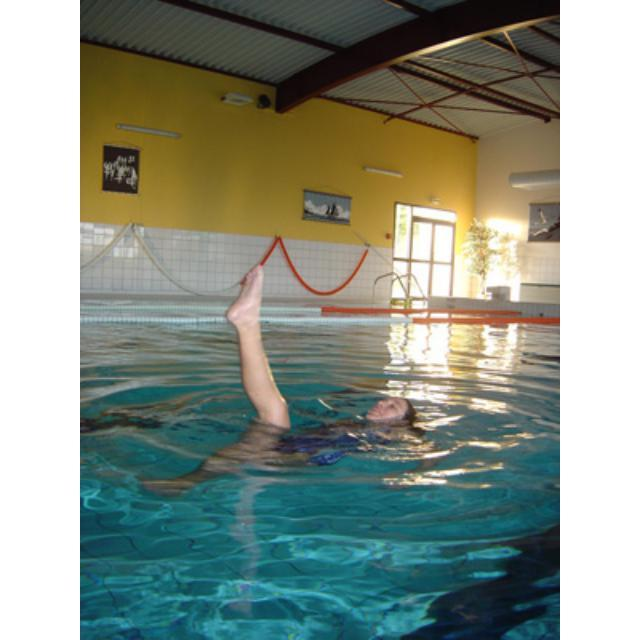human: (224, 263, 432, 480)
